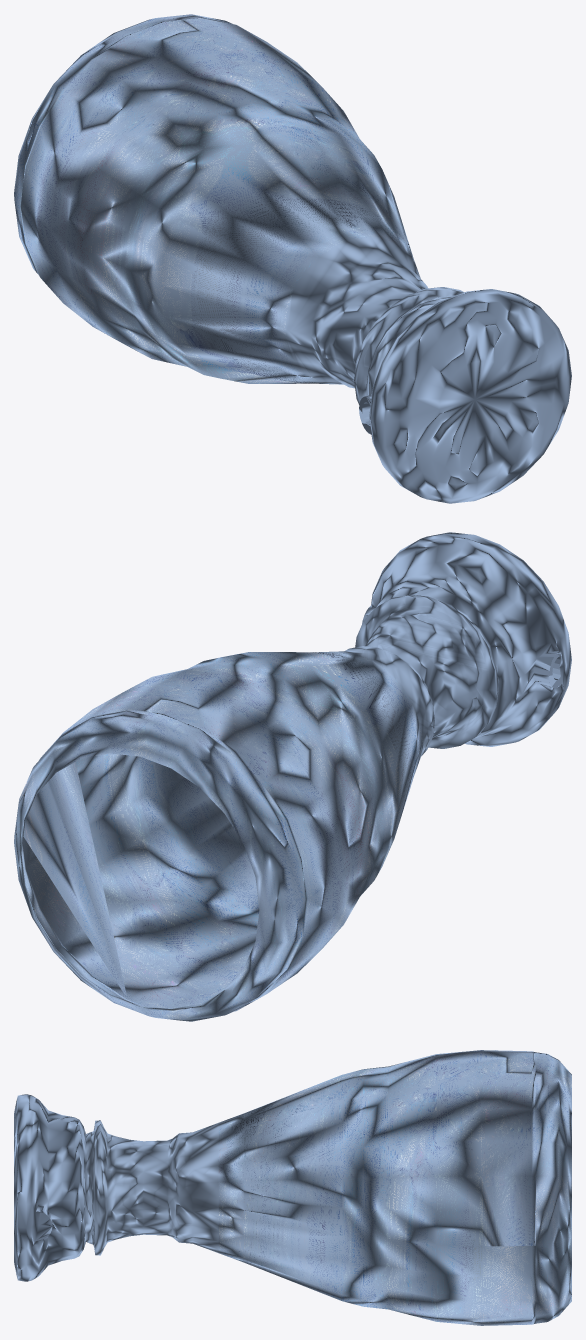
File: model_align.obj
3 views of the same model, one above another, from view 1: azimuth 30°, elevation 25°; view 2: azimuth 150°, elevation 25°; view 3: azimuth 270°, elevation 25° (orthographic). The views are drawn at different scales.
Size of the model in its own units: 0.0711 by 0.0711 by 0.1432.
